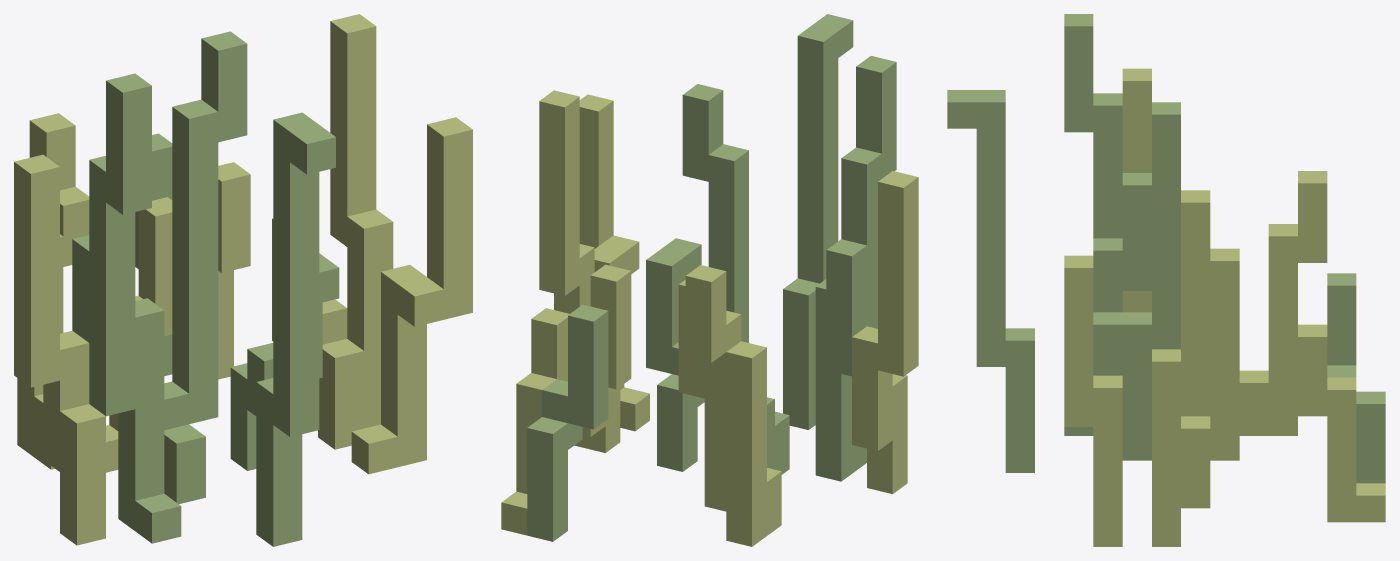
Rendered from swamp_sedge.glb.
3 views of the same model, side by side, from view 1: azimuth 30°, elevation 25°; view 2: azimuth 150°, elevation 25°; view 3: azimuth 270°, elevation 25° (orthographic). The views are drawn at different scales.
Size of the model in its own units: 0.7 by 0.75 by 0.75.
